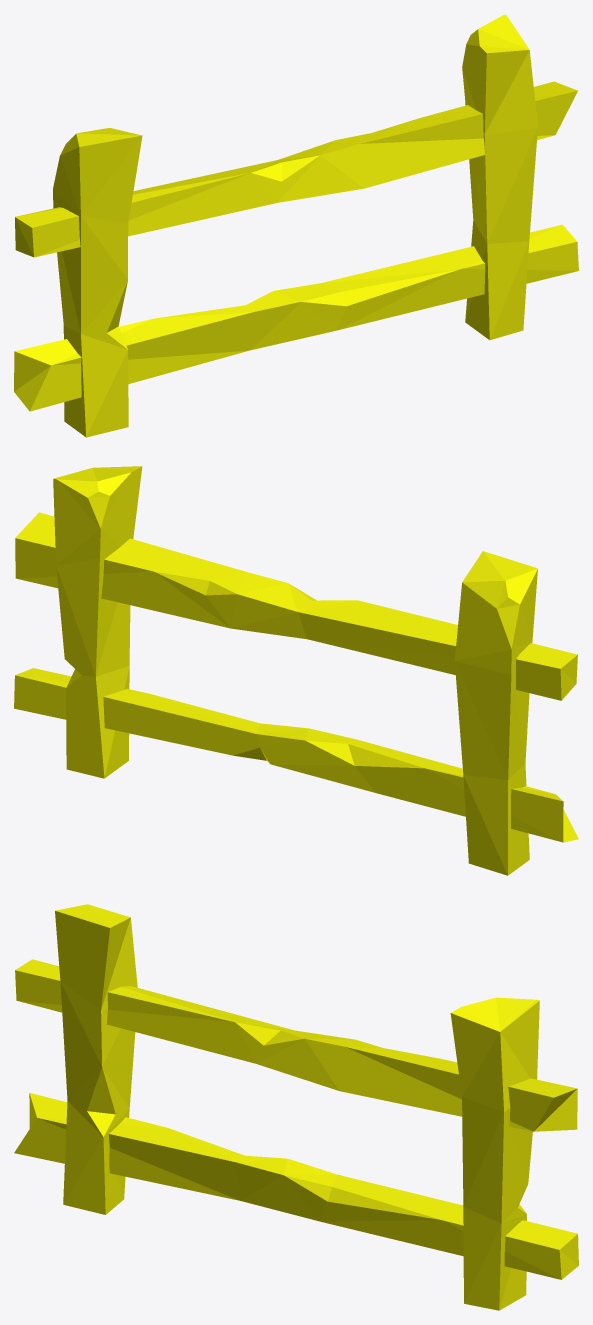
The model's file is fence.glb.
3 renders of one model, top to bottom at view 1: azimuth 30°, elevation 25°; view 2: azimuth 150°, elevation 25°; view 3: azimuth 330°, elevation 25°, orthographic.
Parts seen in each view (by area): view 1: fence; view 2: fence; view 3: fence.
Boxes of the visible parts, left/top/right/bottom form: fence: left=14, top=14, right=578, bottom=437; fence: left=14, top=466, right=578, bottom=875; fence: left=14, top=904, right=578, bottom=1310.
Size of the model in its own units: 6 by 3.06 by 0.6648.
Materials: 1 (1 with a texture image).
